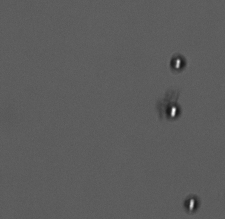Living Cell: (181, 193, 200, 213), (168, 53, 186, 72), (163, 101, 181, 120)
